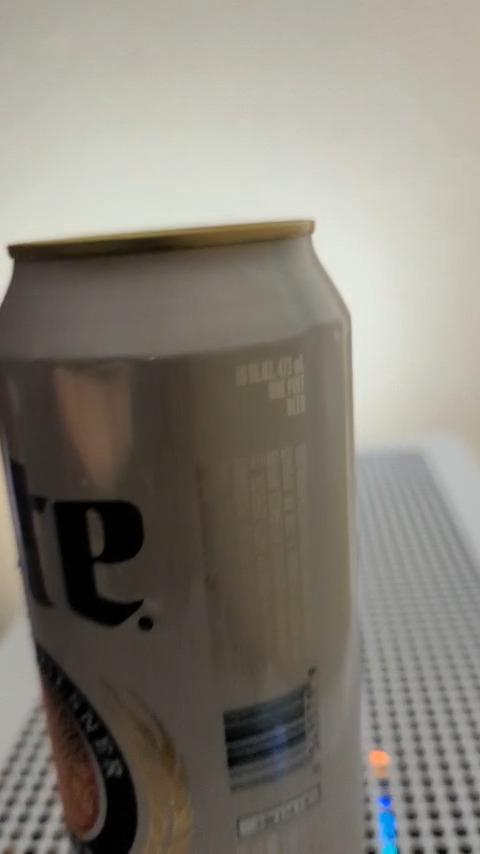metal: (0, 220, 364, 853)
